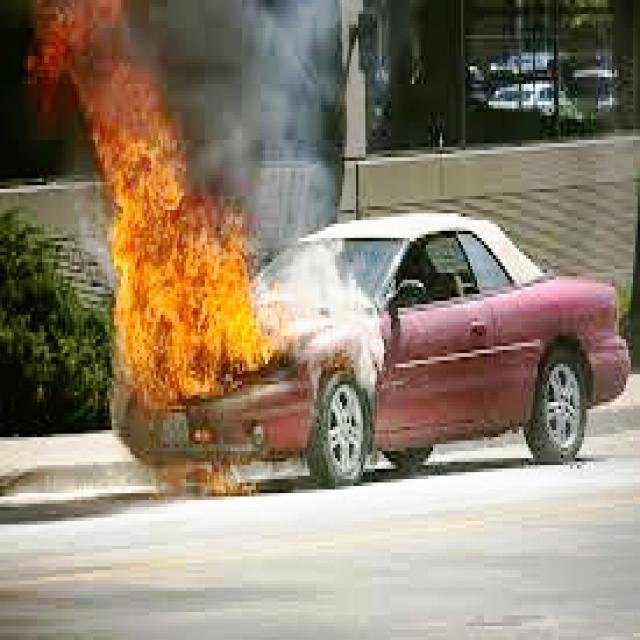api: (25, 5, 318, 428)
